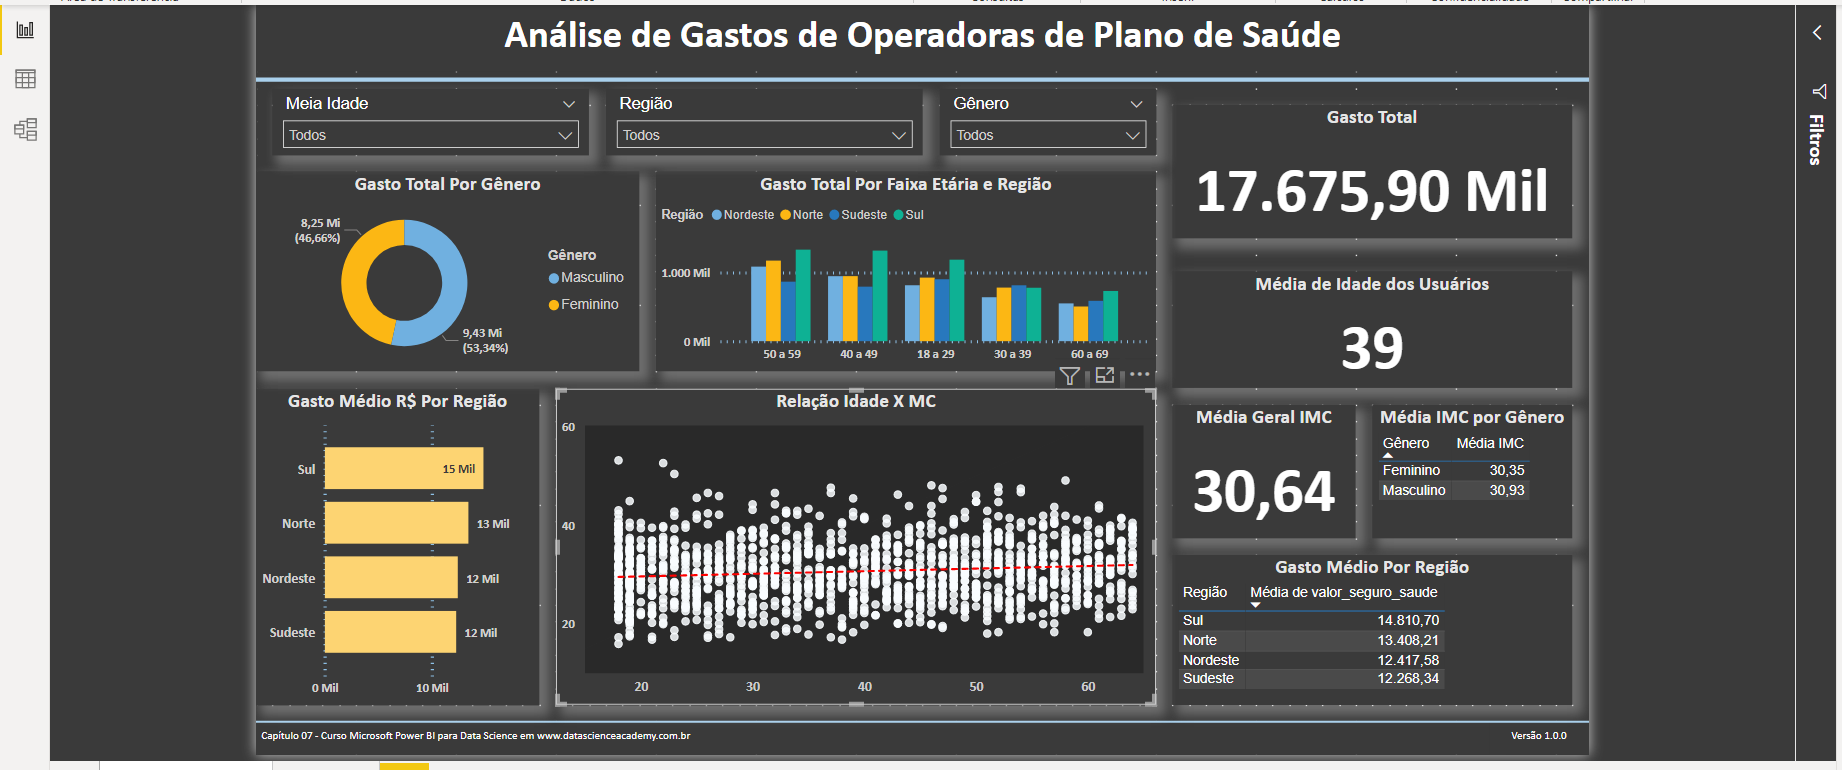

The page's visual inventory and layout, read from the dashboard file:
{"tool":"powerbi","page":{"name":"Relatorio_Solucao","canvas":[1280,720],"ordinal":0},"visuals":[{"type":"textbox","box":[0,688,1184,32],"z":0},{"type":"textbox","box":[0,0,1280,64],"z":1},{"type":"textbox","box":[1200,688,80,32],"z":2},{"type":"shape","box":[0,672,1280,32],"z":5},{"type":"shape","box":[0,64,1280,16],"z":6},{"type":"card","title":"Gasto Total","fields":{"Values":["Sum(seguro_saude_Portfólio.valor_seguro_saude)"]},"box":[880,96,384,128],"z":7},{"type":"card","title":"Média de Idade dos Usuários","fields":{"Values":["Avg(seguro_saude_Portfólio.idade)"]},"box":[880,256,384,112],"z":8},{"type":"barChart","title":"Gasto Médio R$ Por Região","fields":{"Category":["seguro_saude_Portfólio.regiao"],"Y":["Avg(seguro_saude_Portfólio.valor_seguro_saude)"]},"box":[0,368,272,304],"z":9},{"type":"donutChart","title":"Gasto Total Por Gênero","fields":{"Category":["seguro_saude_Portfólio.sexo"],"Y":["Sum(seguro_saude_Portfólio.valor_seguro_saude)"]},"box":[0,160,368,192],"z":10},{"type":"clusteredColumnChart","title":"Gasto Total Por Faixa Etária e Região","fields":{"Category":["seguro_saude_Portfólio.Faixa Etátia"],"Series":["seguro_saude_Portfólio.regiao"],"Y":["Sum(seguro_saude_Portfólio.valor_seguro_saude)"]},"box":[384,160,480,192],"z":11},{"type":"scatterChart","title":"Relação Idade X MC","fields":{"X":["seguro_saude_Portfólio.Idade"],"Y":["seguro_saude_Portfólio.IMC"]},"box":[288,368,576,304],"z":12},{"type":"card","title":"Média Geral IMC","fields":{"Values":["seguro_saude_Portfólio.Média IMC"]},"box":[880,384,176,128],"z":13},{"type":"tableEx","title":"Média IMC por Gênero","fields":{"Values":["seguro_saude_Portfólio.Gênero","seguro_saude_Portfólio.Média IMC"]},"box":[1072,384,192,128],"z":14},{"type":"tableEx","title":"Gasto Médio Por Região","fields":{"Values":["seguro_saude_Portfólio.Região","Avg(seguro_saude_Portfólio.valor_seguro_saude)"]},"box":[880,528,384,144],"z":15},{"type":"slicer","fields":{"Values":["seguro_saude_Portfólio.Meia Idade"]},"box":[16,80,304,64],"z":16},{"type":"slicer","fields":{"Values":["seguro_saude_Portfólio.Região"]},"box":[336,80,304,64],"z":17},{"type":"slicer","fields":{"Values":["seguro_saude_Portfólio.Gênero"]},"box":[656,80,208,64],"z":18}]}

Visuals, with their boxes on the page's 1280x720 design canvas (x1, y1, x2, y2). These are canvas units, not pixel positions in the 1842x770 screenshot, which may show the page scaled, cropped or inside an application window:
textbox: [x1=0, y1=688, x2=1184, y2=720]
textbox: [x1=0, y1=0, x2=1280, y2=64]
textbox: [x1=1200, y1=688, x2=1280, y2=720]
shape: [x1=0, y1=672, x2=1280, y2=704]
shape: [x1=0, y1=64, x2=1280, y2=80]
"Gasto Total" card: [x1=880, y1=96, x2=1264, y2=224]
"Média de Idade dos Usuários" card: [x1=880, y1=256, x2=1264, y2=368]
"Gasto Médio R$ Por Região" barChart: [x1=0, y1=368, x2=272, y2=672]
"Gasto Total Por Gênero" donutChart: [x1=0, y1=160, x2=368, y2=352]
"Gasto Total Por Faixa Etária e Região" clusteredColumnChart: [x1=384, y1=160, x2=864, y2=352]
"Relação Idade X MC" scatterChart: [x1=288, y1=368, x2=864, y2=672]
"Média Geral IMC" card: [x1=880, y1=384, x2=1056, y2=512]
"Média IMC por Gênero" tableEx: [x1=1072, y1=384, x2=1264, y2=512]
"Gasto Médio Por Região" tableEx: [x1=880, y1=528, x2=1264, y2=672]
slicer - seguro_saude_Portfólio.Meia Idade: [x1=16, y1=80, x2=320, y2=144]
slicer - seguro_saude_Portfólio.Região: [x1=336, y1=80, x2=640, y2=144]
slicer - seguro_saude_Portfólio.Gênero: [x1=656, y1=80, x2=864, y2=144]
